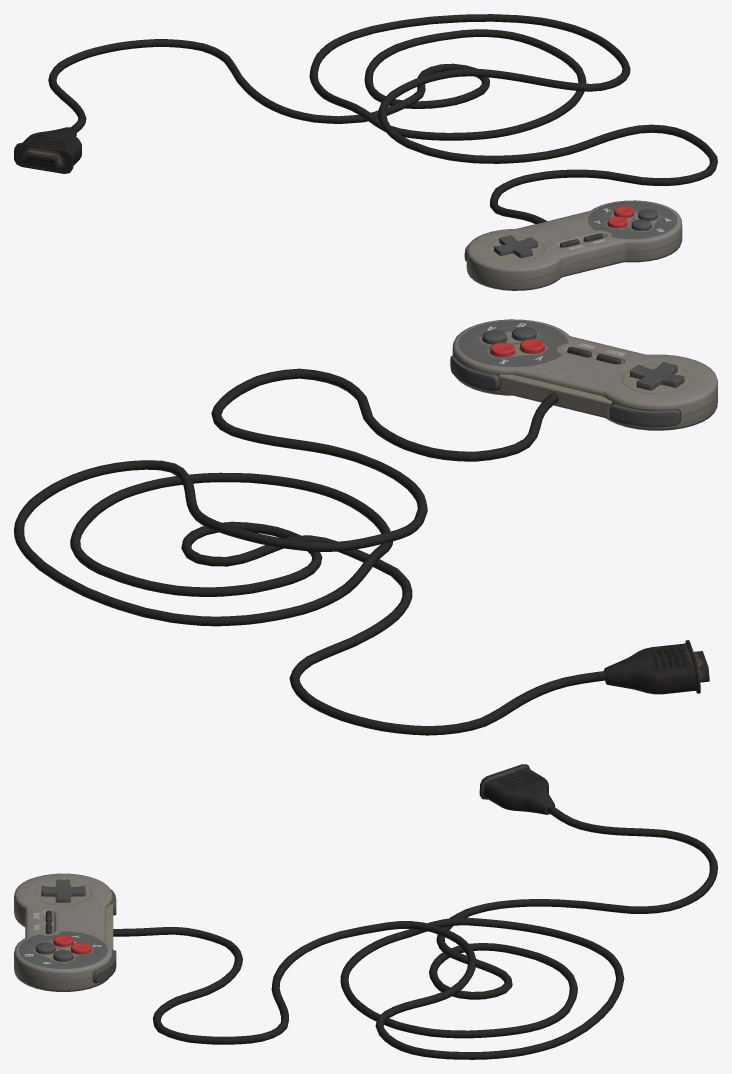
Rendered from gamepad.gltf.
3 renders of one model, top to bottom at view 1: azimuth 30°, elevation 25°; view 2: azimuth 150°, elevation 25°; view 3: azimuth 270°, elevation 25°, orthographic. The views are drawn at different scales.
Parts seen in each view (by area): view 1: gamepad; view 2: gamepad; view 3: gamepad.
Part boxes in pixels (bbox=[...]): gamepad: bbox=[14, 14, 717, 290]; gamepad: bbox=[14, 319, 717, 735]; gamepad: bbox=[14, 764, 717, 1059].
Bounding box in the file's own units: 0.4041 × 0.0189 × 0.435.
1 material, 1 textured.
